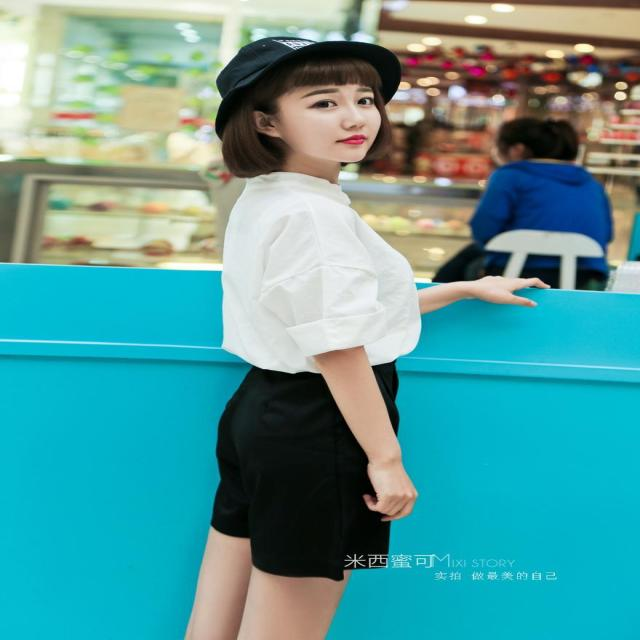long sleeve top: (469, 163, 613, 271)
short sleeve top: (223, 173, 422, 374)
shorts: (212, 360, 399, 582)
